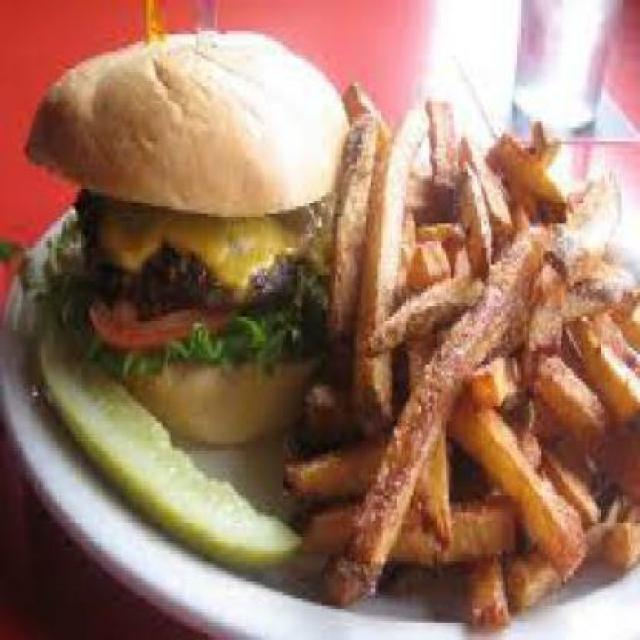french fries: (333, 69, 638, 626)
hamburger: (16, 14, 319, 448)
